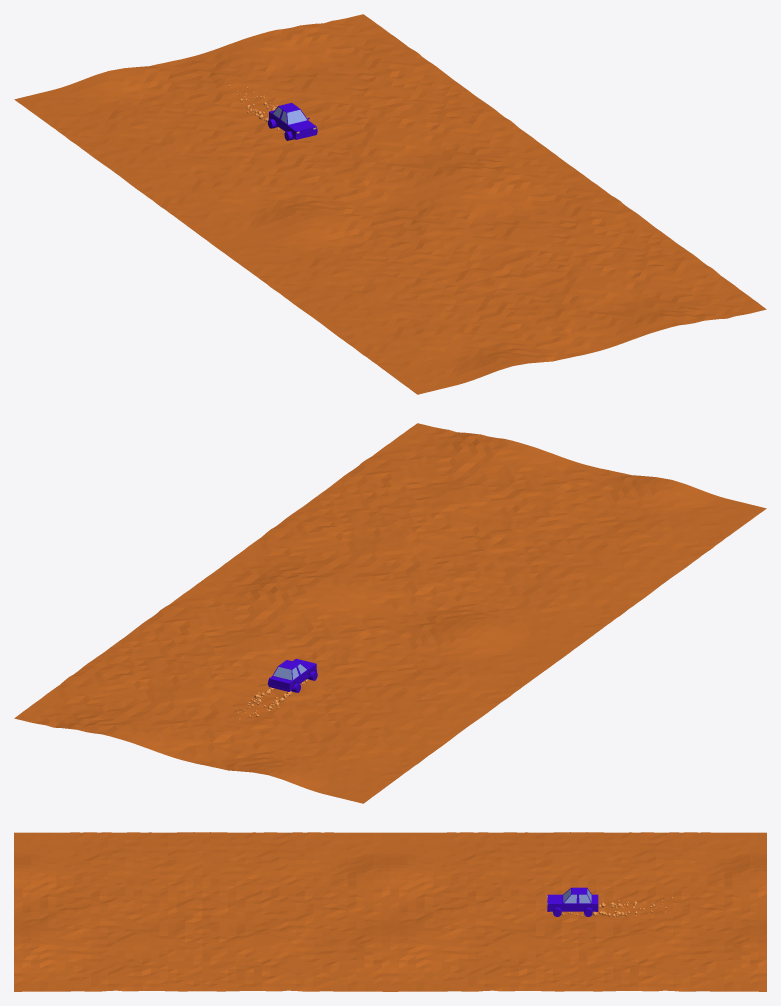
The model's file is PlayerCar.glb.
3 renders of one model, top to bottom at view 1: azimuth 30°, elevation 25°; view 2: azimuth 150°, elevation 25°; view 3: azimuth 270°, elevation 25°, orthographic. The views are drawn at different scales.
Parts seen in each view (by area): view 1: Front plane, Plane.005, Car; view 2: Front plane, Plane.005, Car; view 3: Front plane, Plane.005, Car.
Boxes of the visible parts, bbox=[...] form: Front plane: bbox=[216, 162, 766, 394]; Plane.005: bbox=[14, 14, 564, 246]; Car: bbox=[268, 103, 316, 139]; Front plane: bbox=[216, 423, 766, 655]; Plane.005: bbox=[14, 571, 564, 803]; Car: bbox=[268, 658, 316, 691]; Front plane: bbox=[14, 832, 390, 991]; Plane.005: bbox=[390, 832, 766, 991]; Car: bbox=[547, 887, 598, 911].
Bounding box in the file's own units: 42 × 5.45 × 84.
